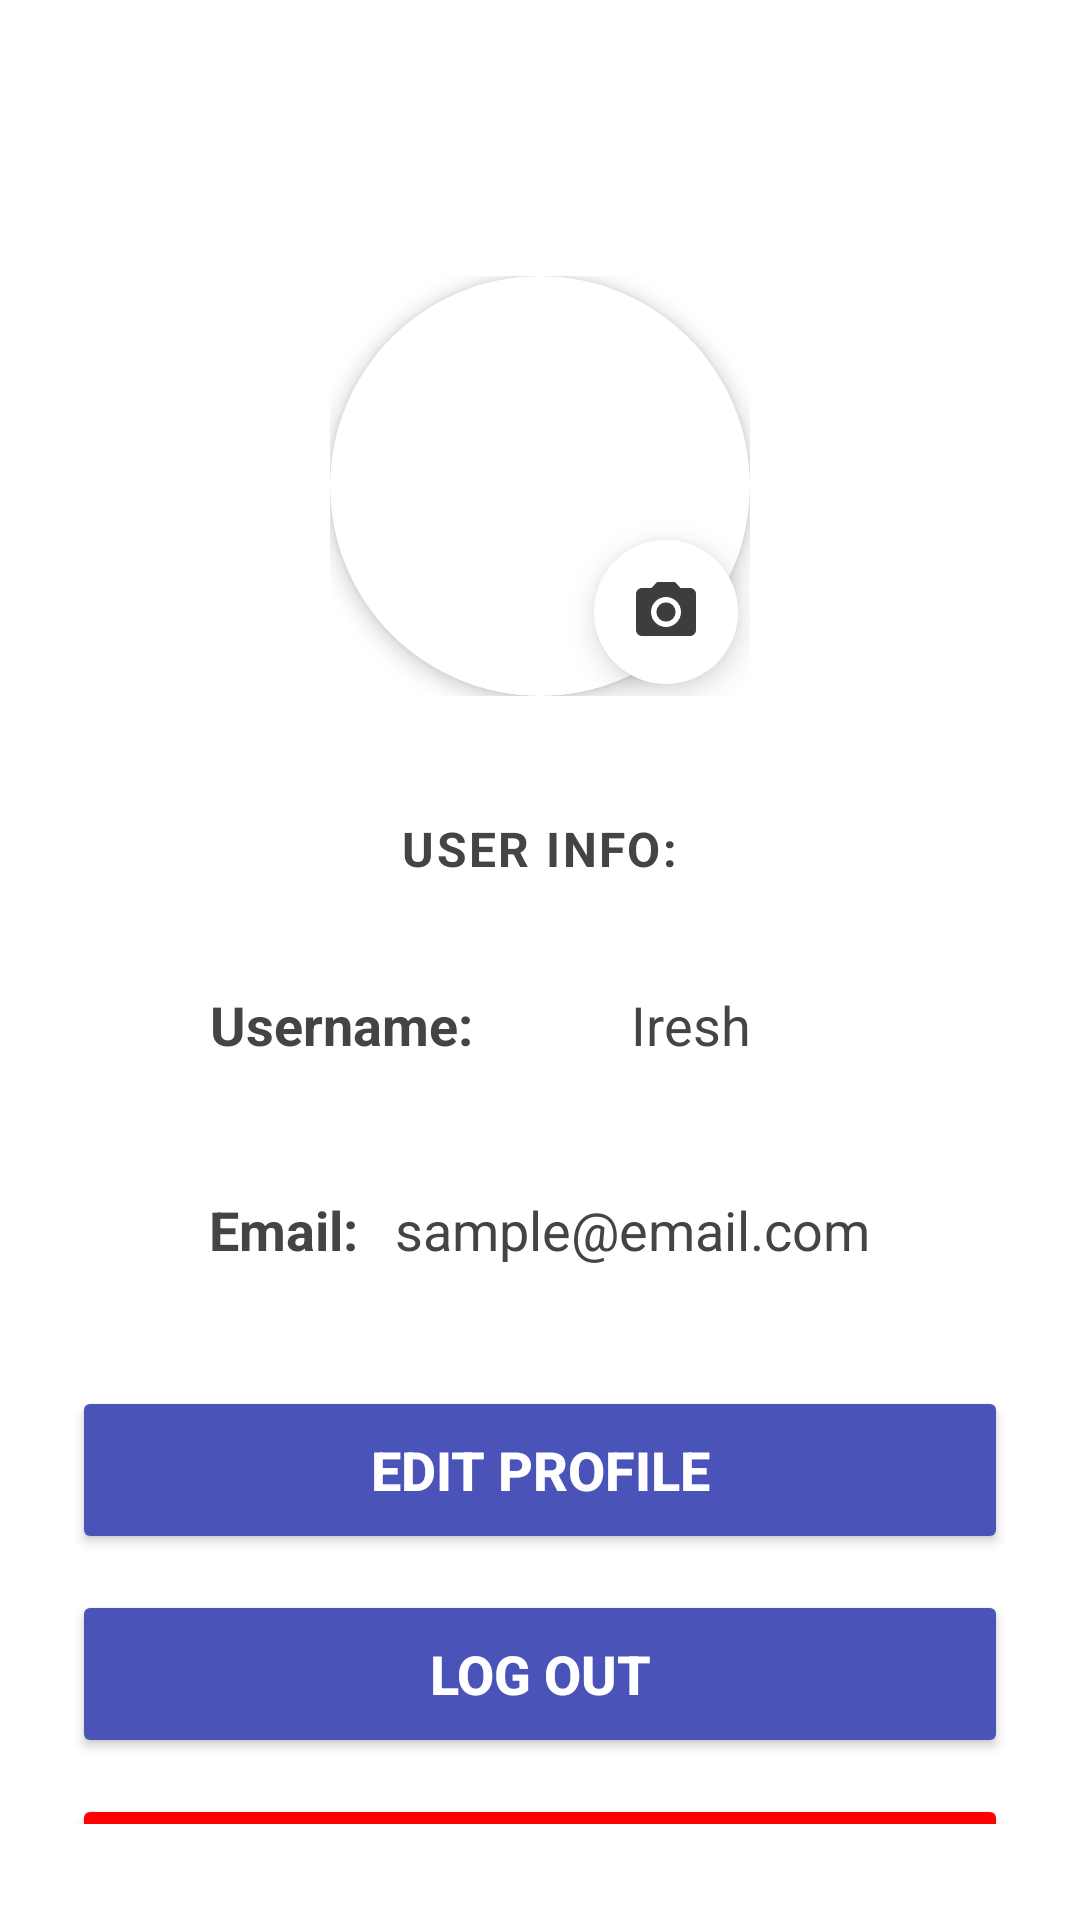

Point at icon controls on the screen. Image size 1080px×1920px, points as [x,y].
Change profile photo: [666,609]
